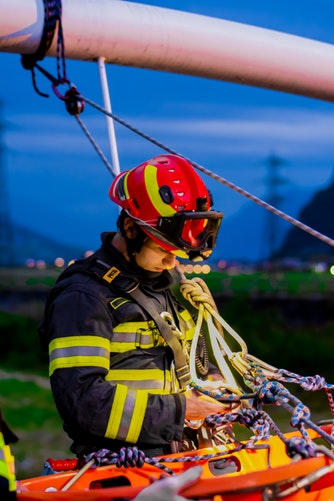helmet: (105, 149, 218, 255)
